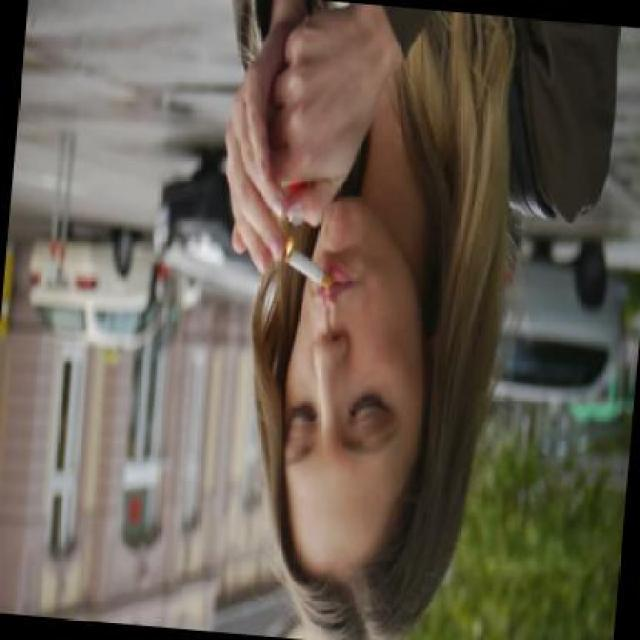smoke: (276, 239, 339, 292)
